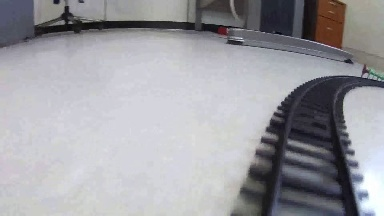tree: (358, 62, 384, 81)
